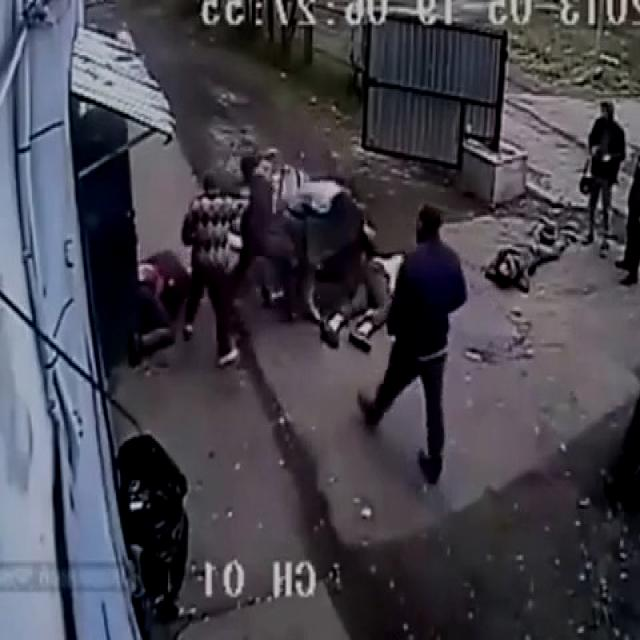fight: (172, 113, 366, 335)
